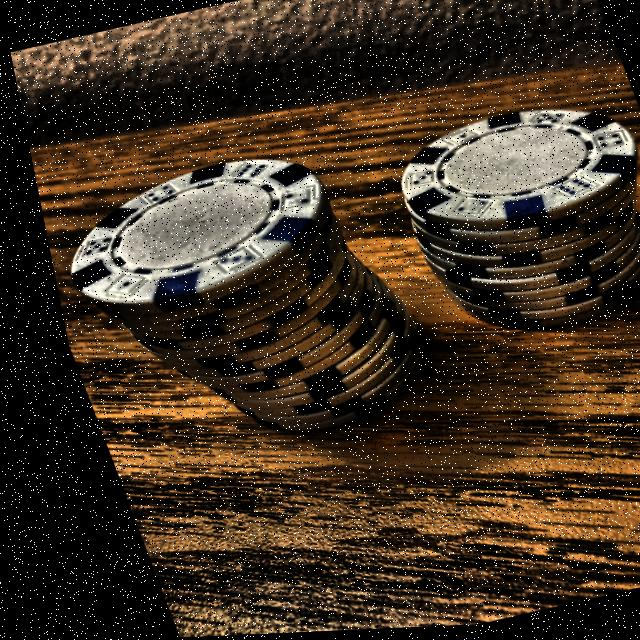Chip: (18, 97, 485, 482), (339, 67, 640, 373)
